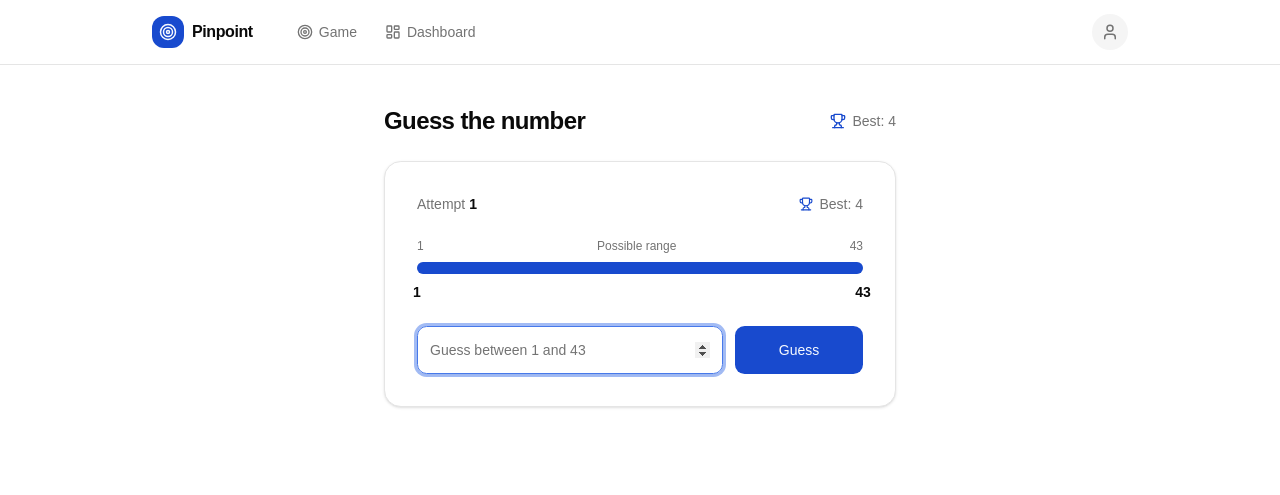
Test case: GamePage › shows a LOWER banner
The image size is (1280, 495).
Type "30" into the number field with placeholder "Guess between 1 and 43" at (570, 350), box [417,326,723,374]
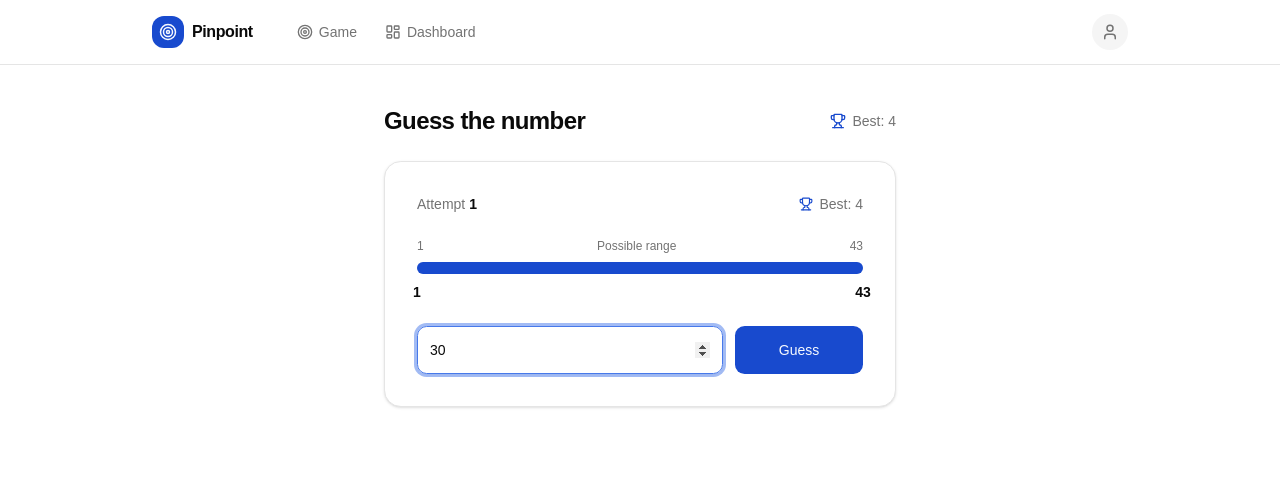
Click the button "Guess" at (799, 350), box [735,326,863,374]
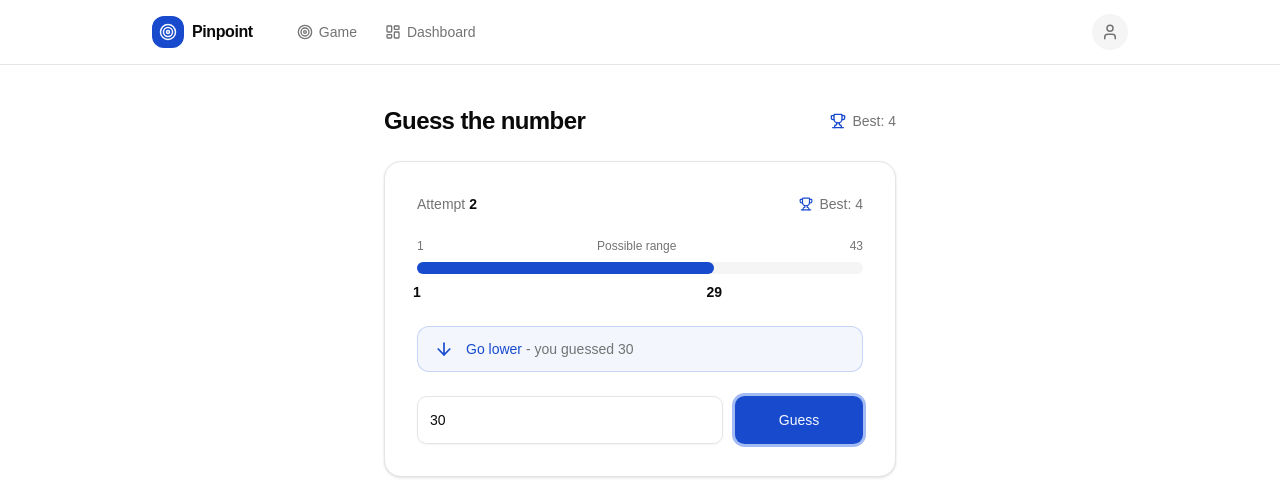
Now the text "Go lower- you guessed 30" is shown, box [466,339,634,359]
Now the text "- you guessed 30" is shown, box [526,341,633,357]
